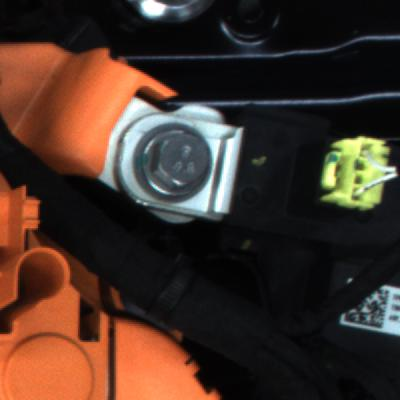nut_b: (131, 118, 226, 209)
